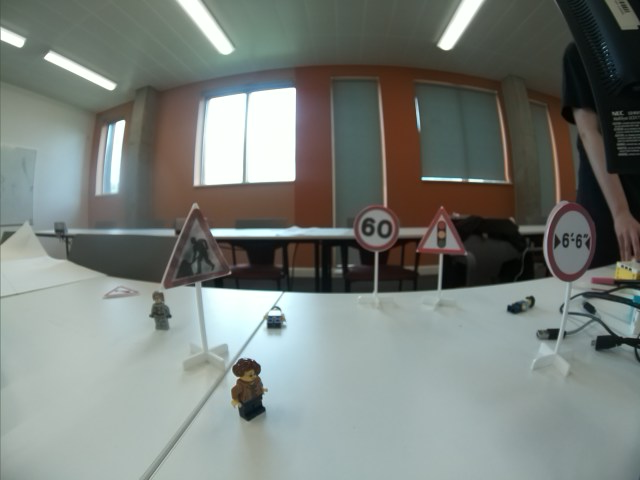60mph: (352, 204, 400, 253)
6ft6: (542, 201, 596, 281)
Lego Man: (227, 356, 273, 423), (148, 291, 172, 333), (506, 294, 537, 314), (263, 306, 288, 329)
Roadworks: (161, 208, 232, 289)
Traffic lights: (416, 208, 467, 256)
Warning: (104, 281, 138, 298)
